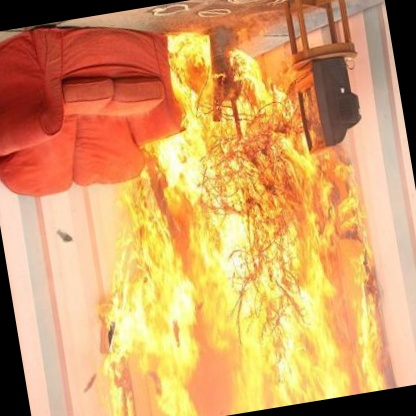fire: (86, 165, 384, 416)
